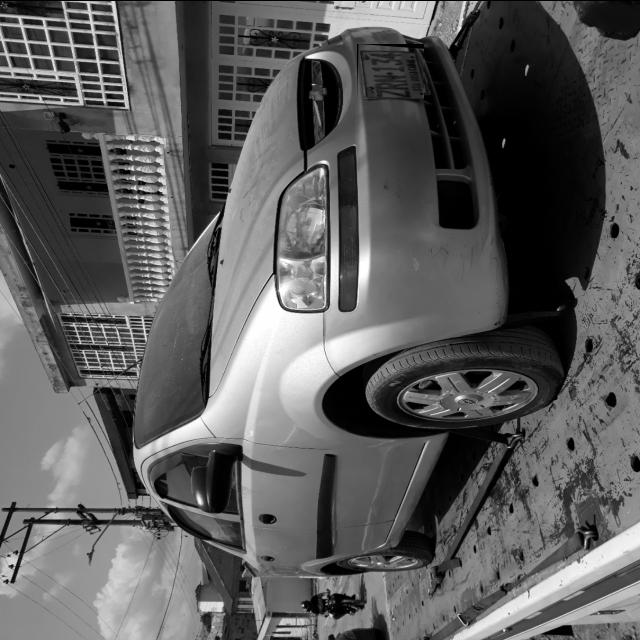plate: (359, 47, 424, 98)
